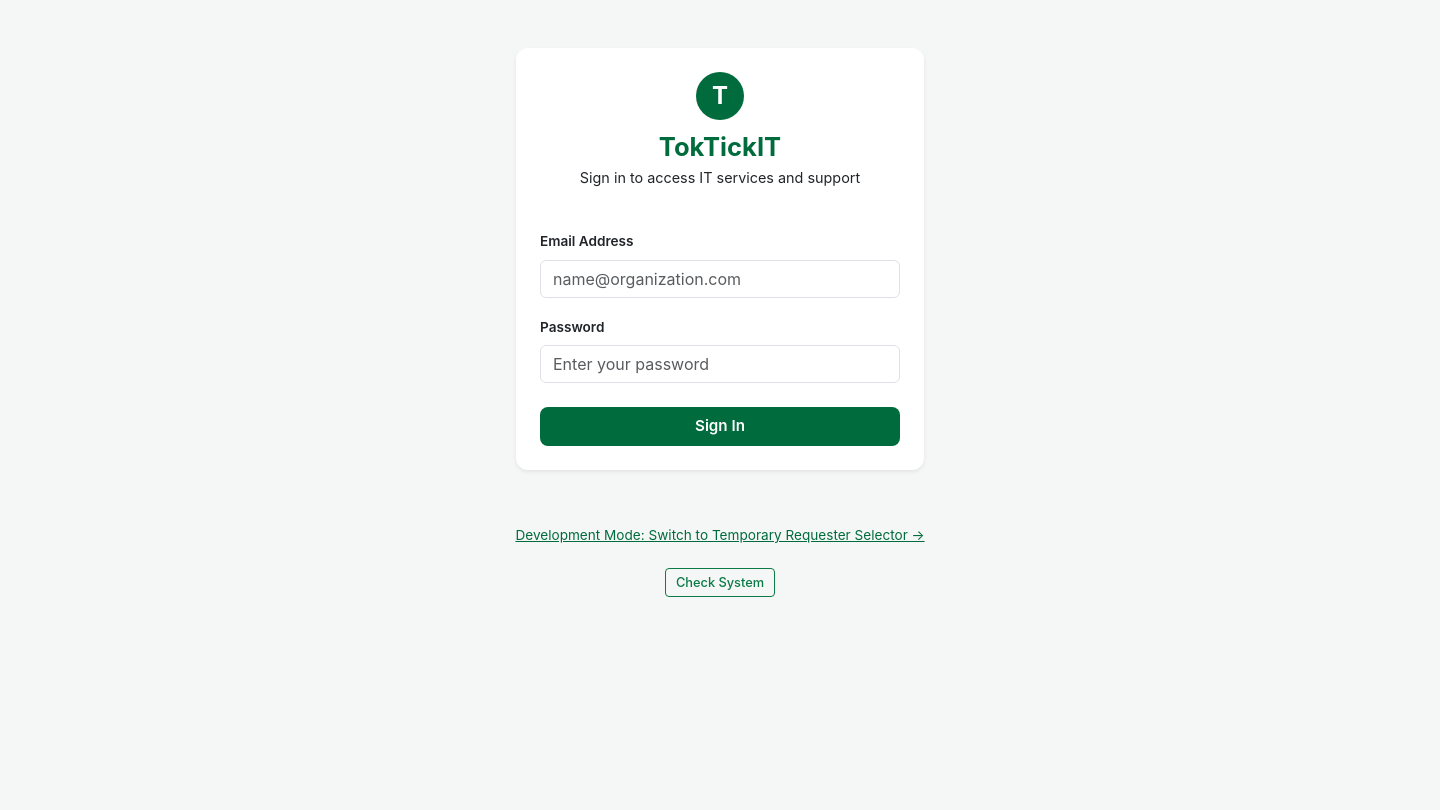
Test: App Authentication & Shell Integration (UI-01, AC-01, AC-02, AC-05) › enters Authenticated App Shell immediately on login without gating on currentRequester
Type "somchai.j@kmutt.ac.th" into the field labelled "Email Address" at (720, 279), box [540, 260, 900, 298]
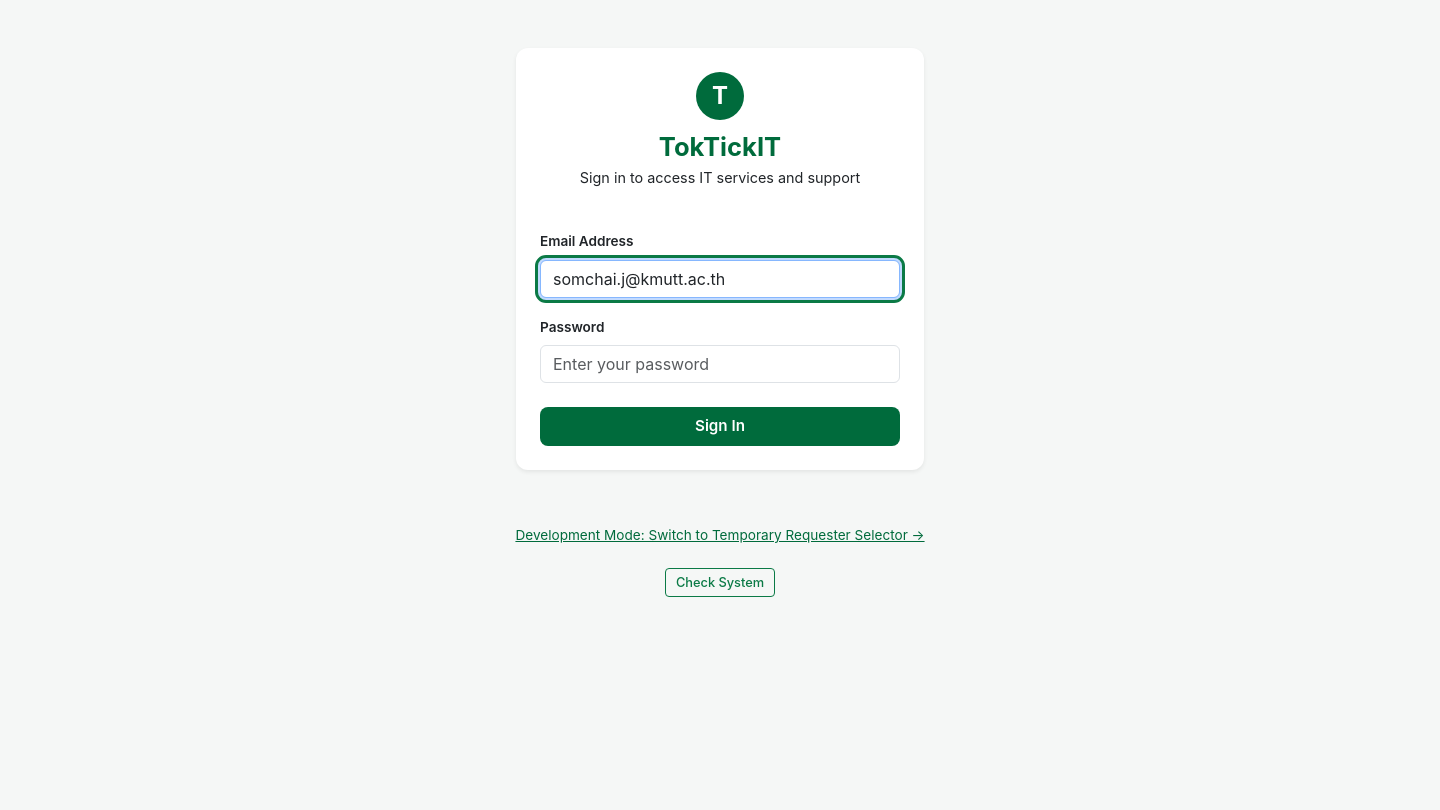
Type "Password123!" into the password field labelled "Password" at (720, 364), box [540, 345, 900, 383]
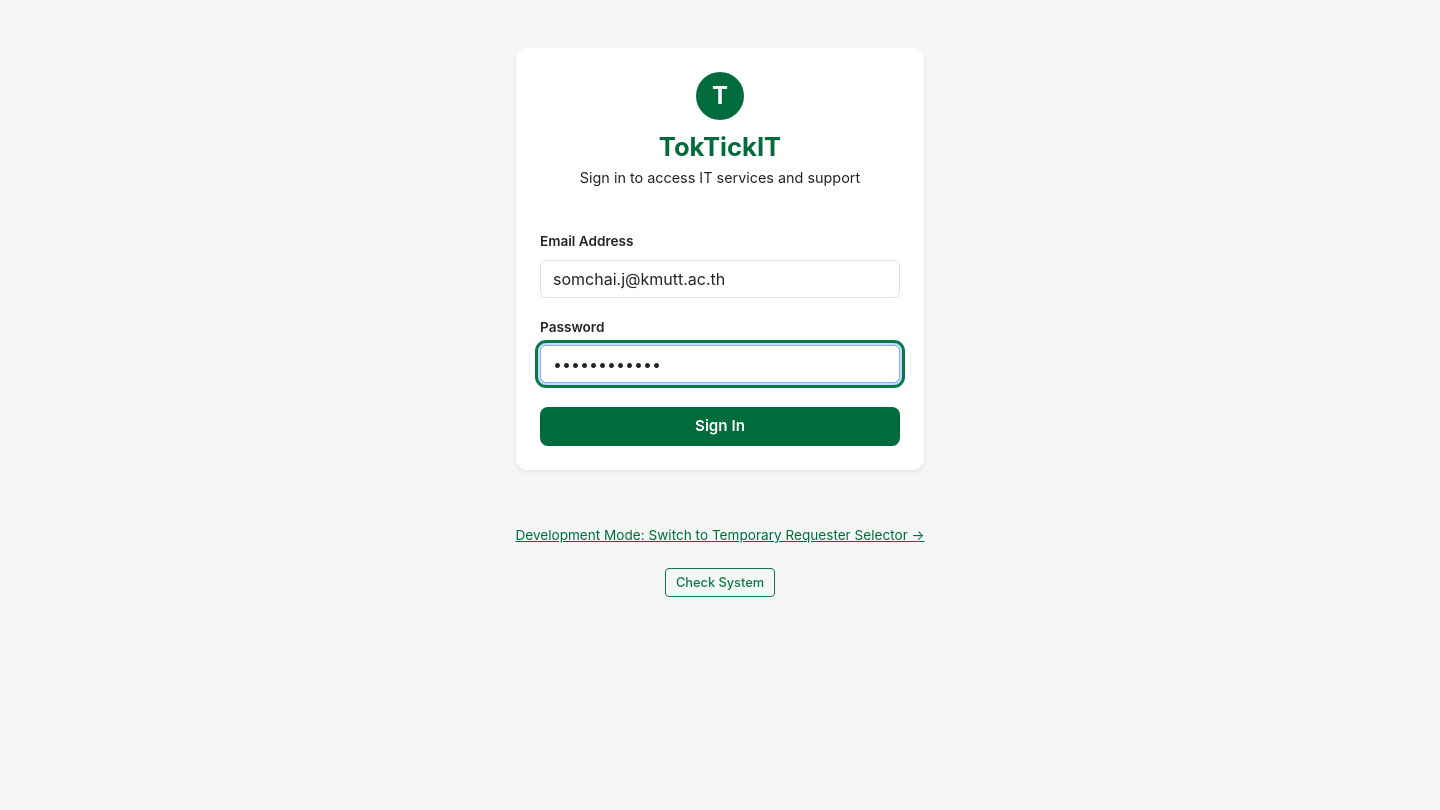
Click the button "Sign In" at (720, 426), box [540, 407, 900, 446]
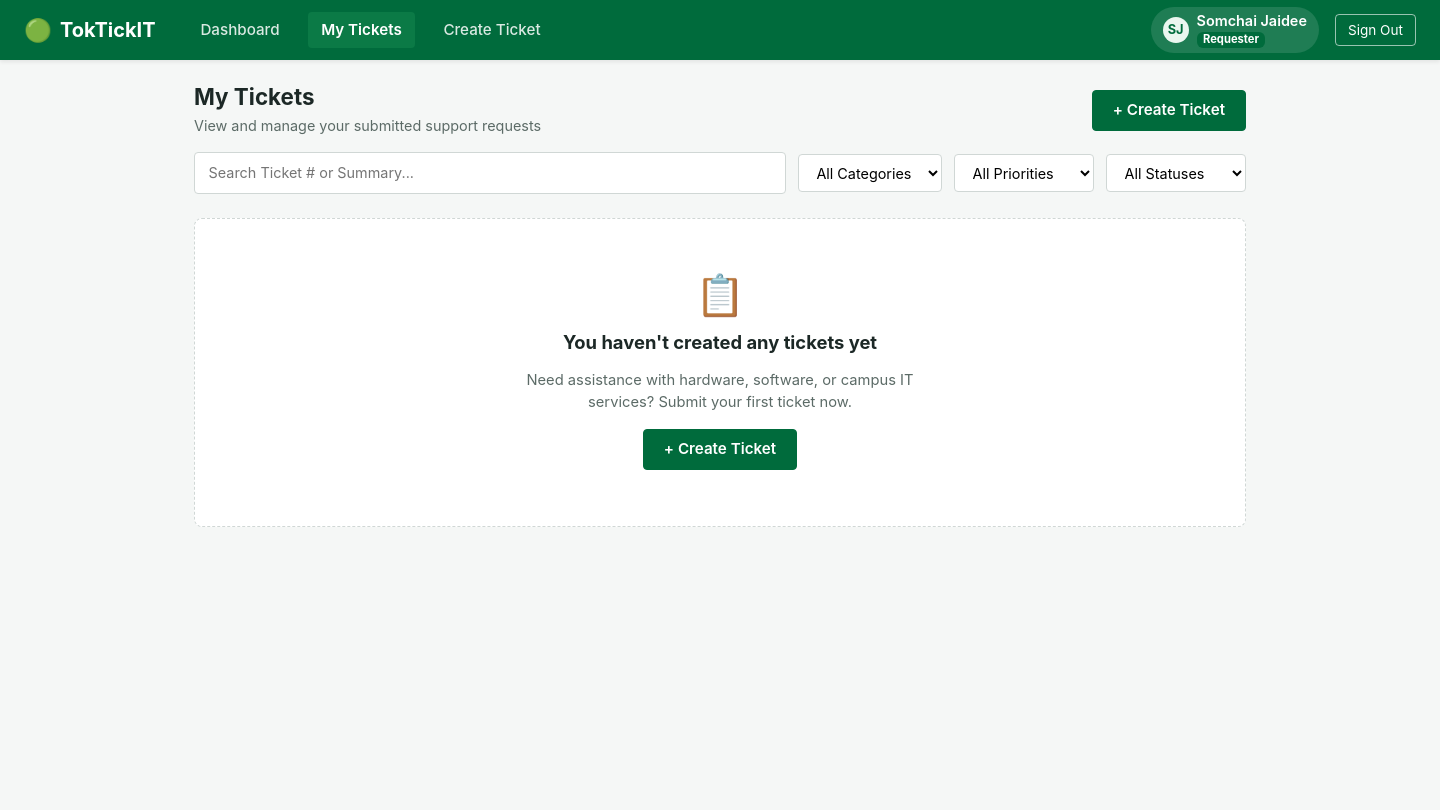
expect the text "Requester" is shown: met, box [1197, 32, 1265, 48]
expect the text "Somchai Jaidee" is shown: met, box [1197, 12, 1307, 30]
expect the button "Sign Out" is shown: met, box [1335, 14, 1416, 46]
